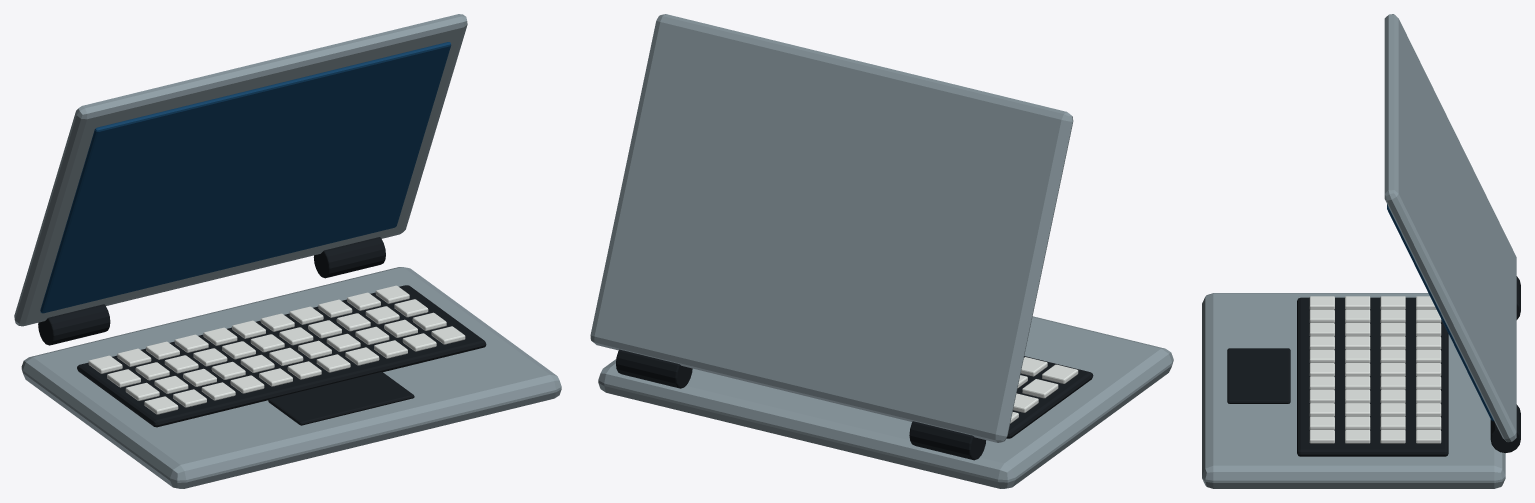
3 views of the same model, side by side, from view 1: azimuth 30°, elevation 25°; view 2: azimuth 150°, elevation 25°; view 3: azimuth 270°, elevation 25° (orthographic). The views are drawn at different scales.
Visible parts, largest first — view 1: LID_Display, BASE_Chassis, LID_Shell, KEYBOARD_Keys, KEYBOARD_Inset, TOUCHPAD, HINGE, HINGE.001; view 2: LID_Shell, BASE_Chassis, KEYBOARD_Keys, HINGE.001, HINGE, KEYBOARD_Inset; view 3: LID_Shell, BASE_Chassis, KEYBOARD_Keys, KEYBOARD_Inset, TOUCHPAD, LID_Display, HINGE.001.
Boxes of the visible parts, box(x1,y1,x2,y2) form: LID_Display: box(40, 42, 451, 313); BASE_Chassis: box(21, 267, 561, 488); LID_Shell: box(14, 14, 467, 326); KEYBOARD_Keys: box(88, 285, 465, 414); KEYBOARD_Inset: box(77, 285, 486, 427); TOUCHPAD: box(268, 372, 414, 425); HINGE: box(38, 304, 110, 345); HINGE.001: box(313, 237, 385, 278); LID_Shell: box(590, 14, 1073, 442); BASE_Chassis: box(598, 316, 1173, 488); KEYBOARD_Keys: box(1010, 357, 1078, 423); HINGE.001: box(616, 349, 692, 388); HINGE: box(909, 421, 985, 460); KEYBOARD_Inset: box(1006, 356, 1093, 438); LID_Shell: box(1384, 14, 1516, 442); BASE_Chassis: box(1202, 293, 1505, 488); KEYBOARD_Keys: box(1309, 296, 1441, 443); KEYBOARD_Inset: box(1297, 297, 1448, 456); TOUCHPAD: box(1227, 348, 1290, 403); LID_Display: box(1387, 204, 1493, 421); HINGE.001: box(1490, 404, 1520, 452).
Size of the model in its own units: 0.34 by 0.2616 by 0.252.
